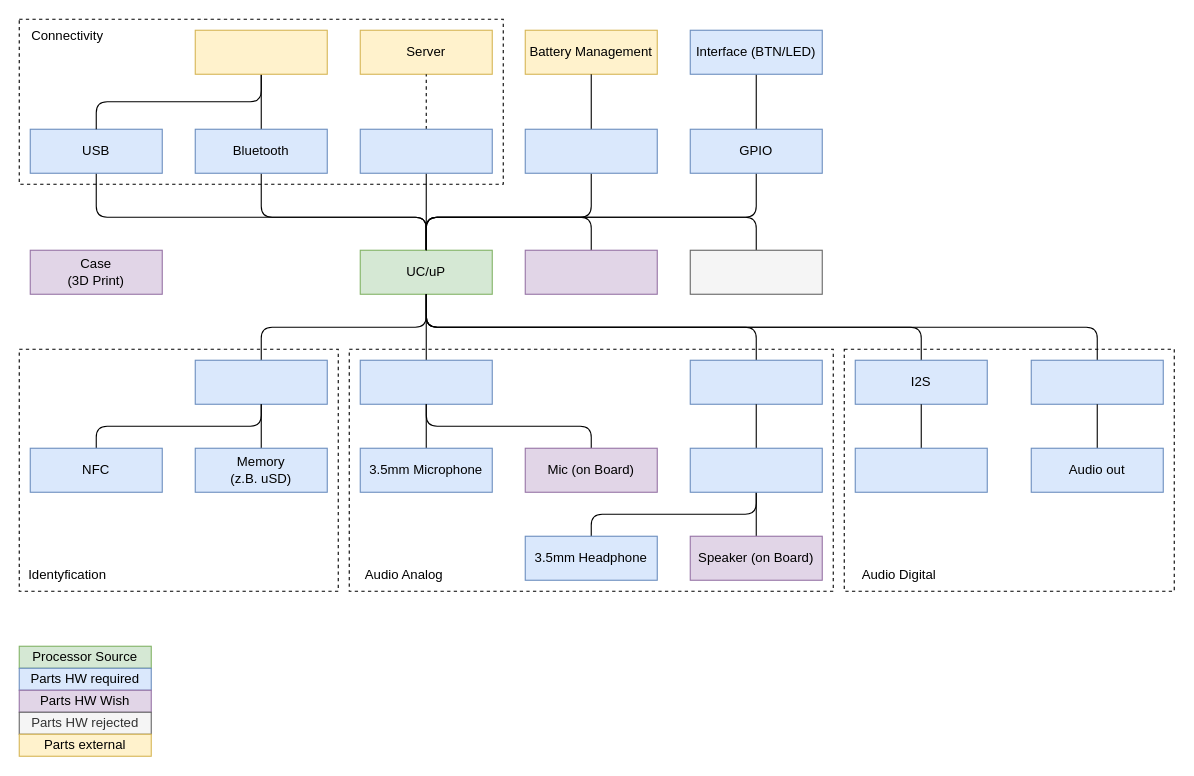
This 1194x776 diagram has some shape labels left out. The shapes that lost their labels are listed below. From the top down, each one's centre as x and y in pixels, then its label:
the point at 260,51: Peripherals
the point at 425,150: WLAN
the point at 590,150: Supply
the point at 590,271: Display
the point at 755,271: Camera
the point at 260,381: (Q)SPI
the point at 425,381: ADC
the point at 755,381: DAC
the point at 1096,381: Codec
the point at 755,469: Amplifier
the point at 920,469: MEMS MIC
